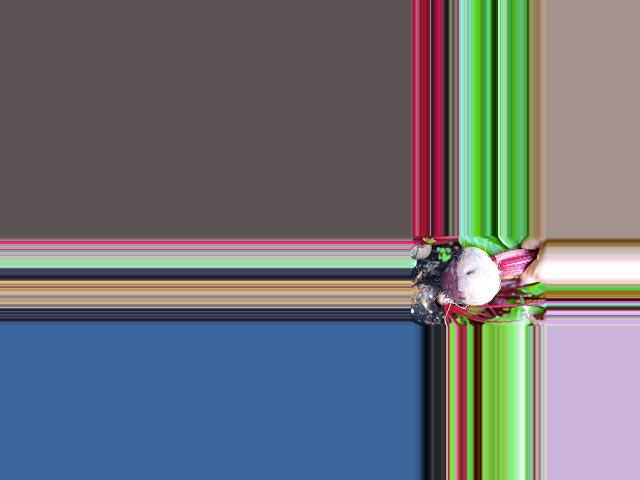beet: (410, 247, 538, 306)
